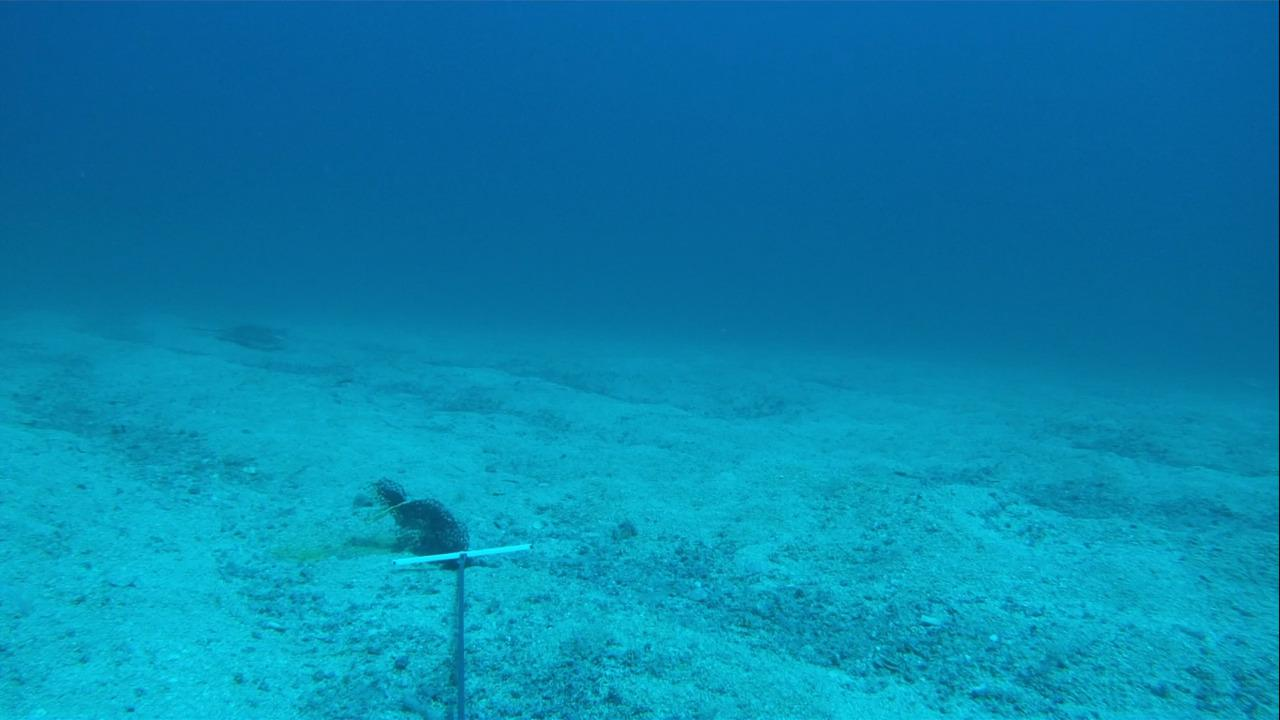myliobatis: (162, 311, 297, 353)
